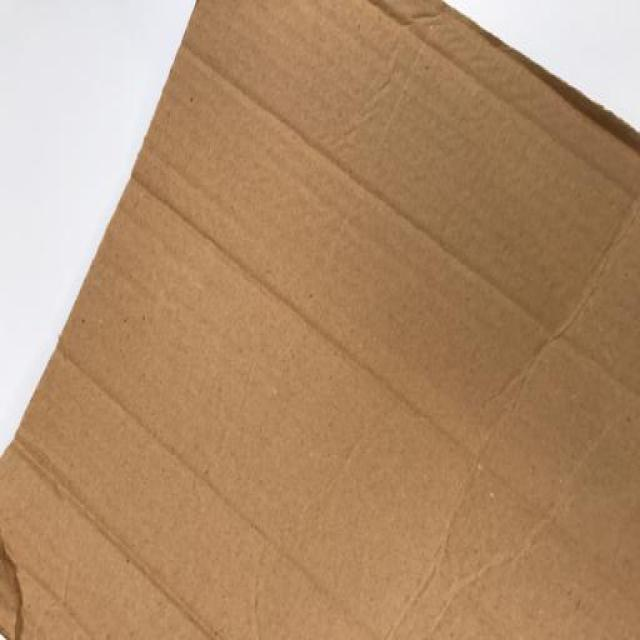Cardboard: (0, 0, 640, 638)
